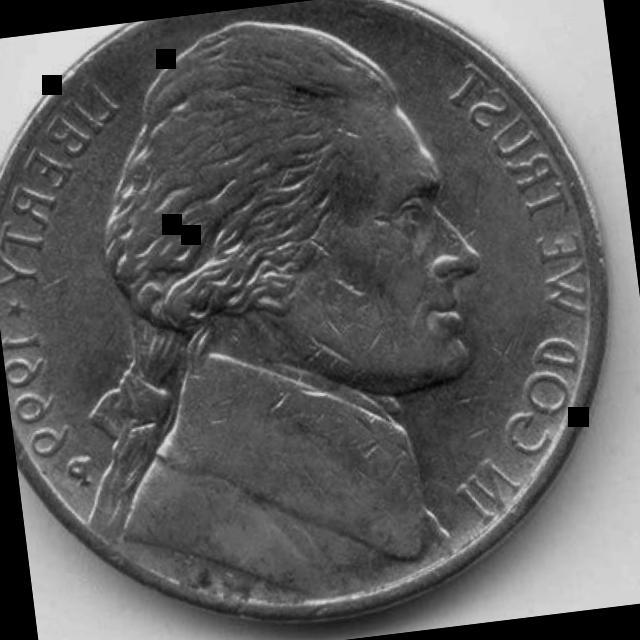Nickel: (0, 0, 600, 623)
